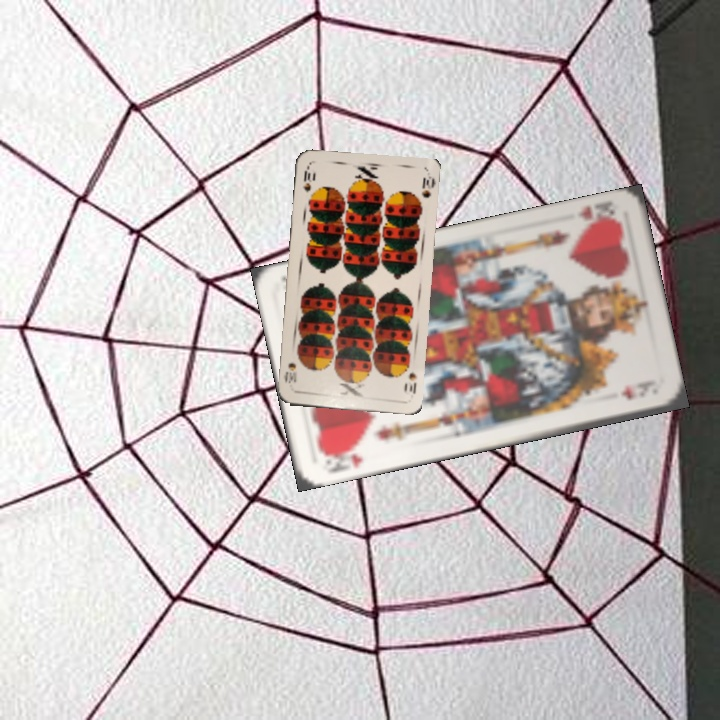HK: (574, 197, 622, 232), (320, 443, 366, 476)
S10: (299, 162, 316, 194), (400, 368, 419, 396)
